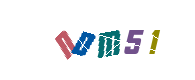1: (114, 0, 194, 80)
5: (85, 0, 165, 80)
D: (56, 0, 136, 80)
M: (58, 0, 138, 80)
N: (29, 0, 109, 80)
